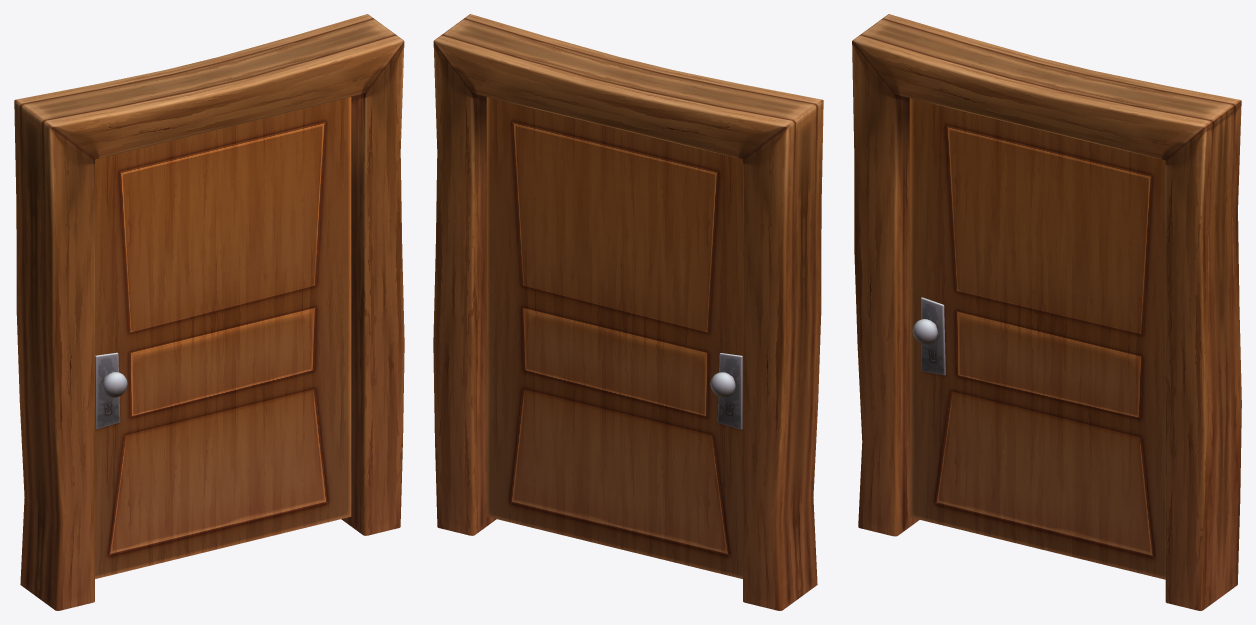
File: PropDoor01TypeA.FBX
3 views of the same model, side by side, from view 1: azimuth 30°, elevation 25°; view 2: azimuth 150°, elevation 25°; view 3: azimuth 330°, elevation 25° (orthographic).
Visible parts, largest first — view 1: Door, Frame; view 2: Door, Frame; view 3: Door, Frame.
Part boxes in pixels (box(x1,y1,x2,y2)): Door: box(95, 97, 351, 578); Frame: box(14, 14, 404, 610); Door: box(486, 97, 742, 578); Frame: box(433, 14, 823, 610); Door: box(909, 98, 1165, 579); Frame: box(852, 14, 1241, 610).
Size of what is drawn, in the model's own units: 1.85 by 2.42 by 0.3454.
